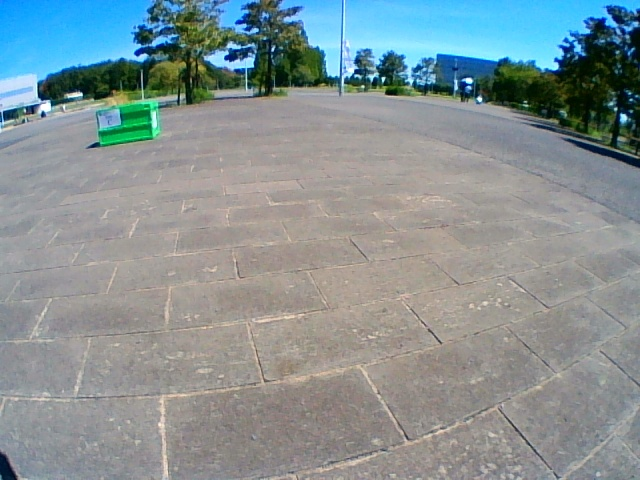green_box: (96, 101, 159, 146)
tag: (102, 113, 119, 127)
